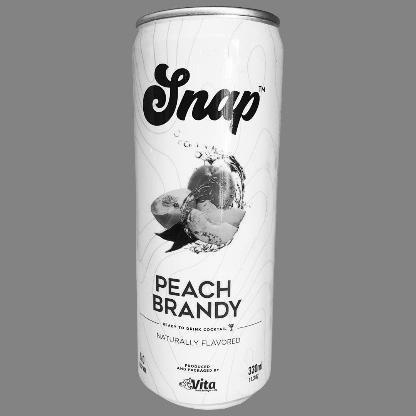alumunium_can: (131, 4, 285, 413)
